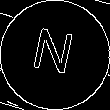N_S: (30, 26, 80, 84)
